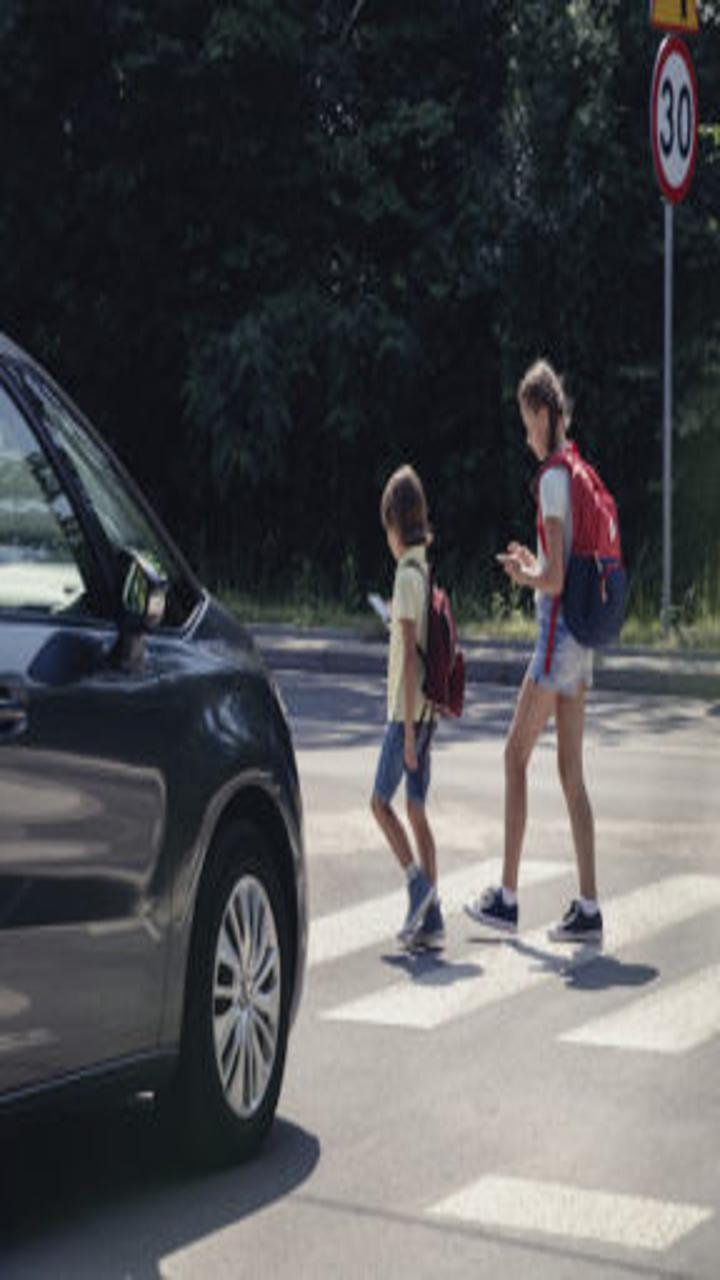Traffic sign: (636, 28, 715, 207)
pedestrian: (471, 349, 623, 975), (356, 455, 474, 969)
vehicle: (4, 331, 290, 1171)
